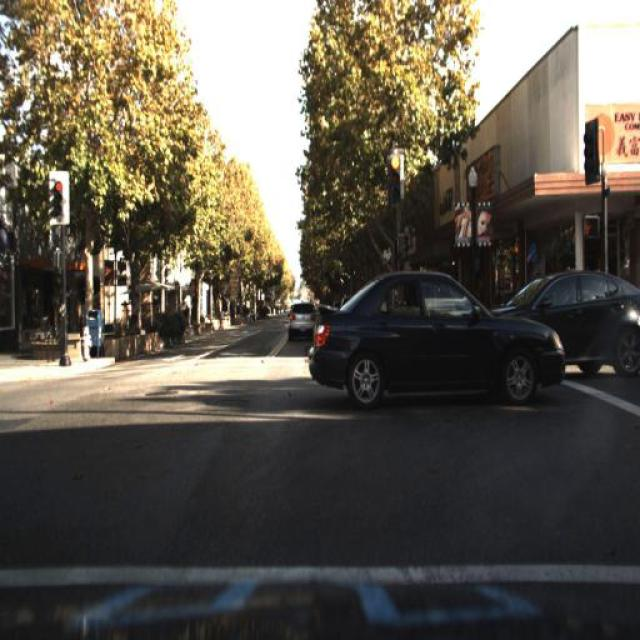car: (299, 264, 570, 408), (470, 270, 640, 376), (562, 253, 638, 388), (280, 289, 322, 347)
trafficLight-RedLeft: (46, 169, 68, 222), (49, 170, 67, 220), (386, 148, 402, 204)
